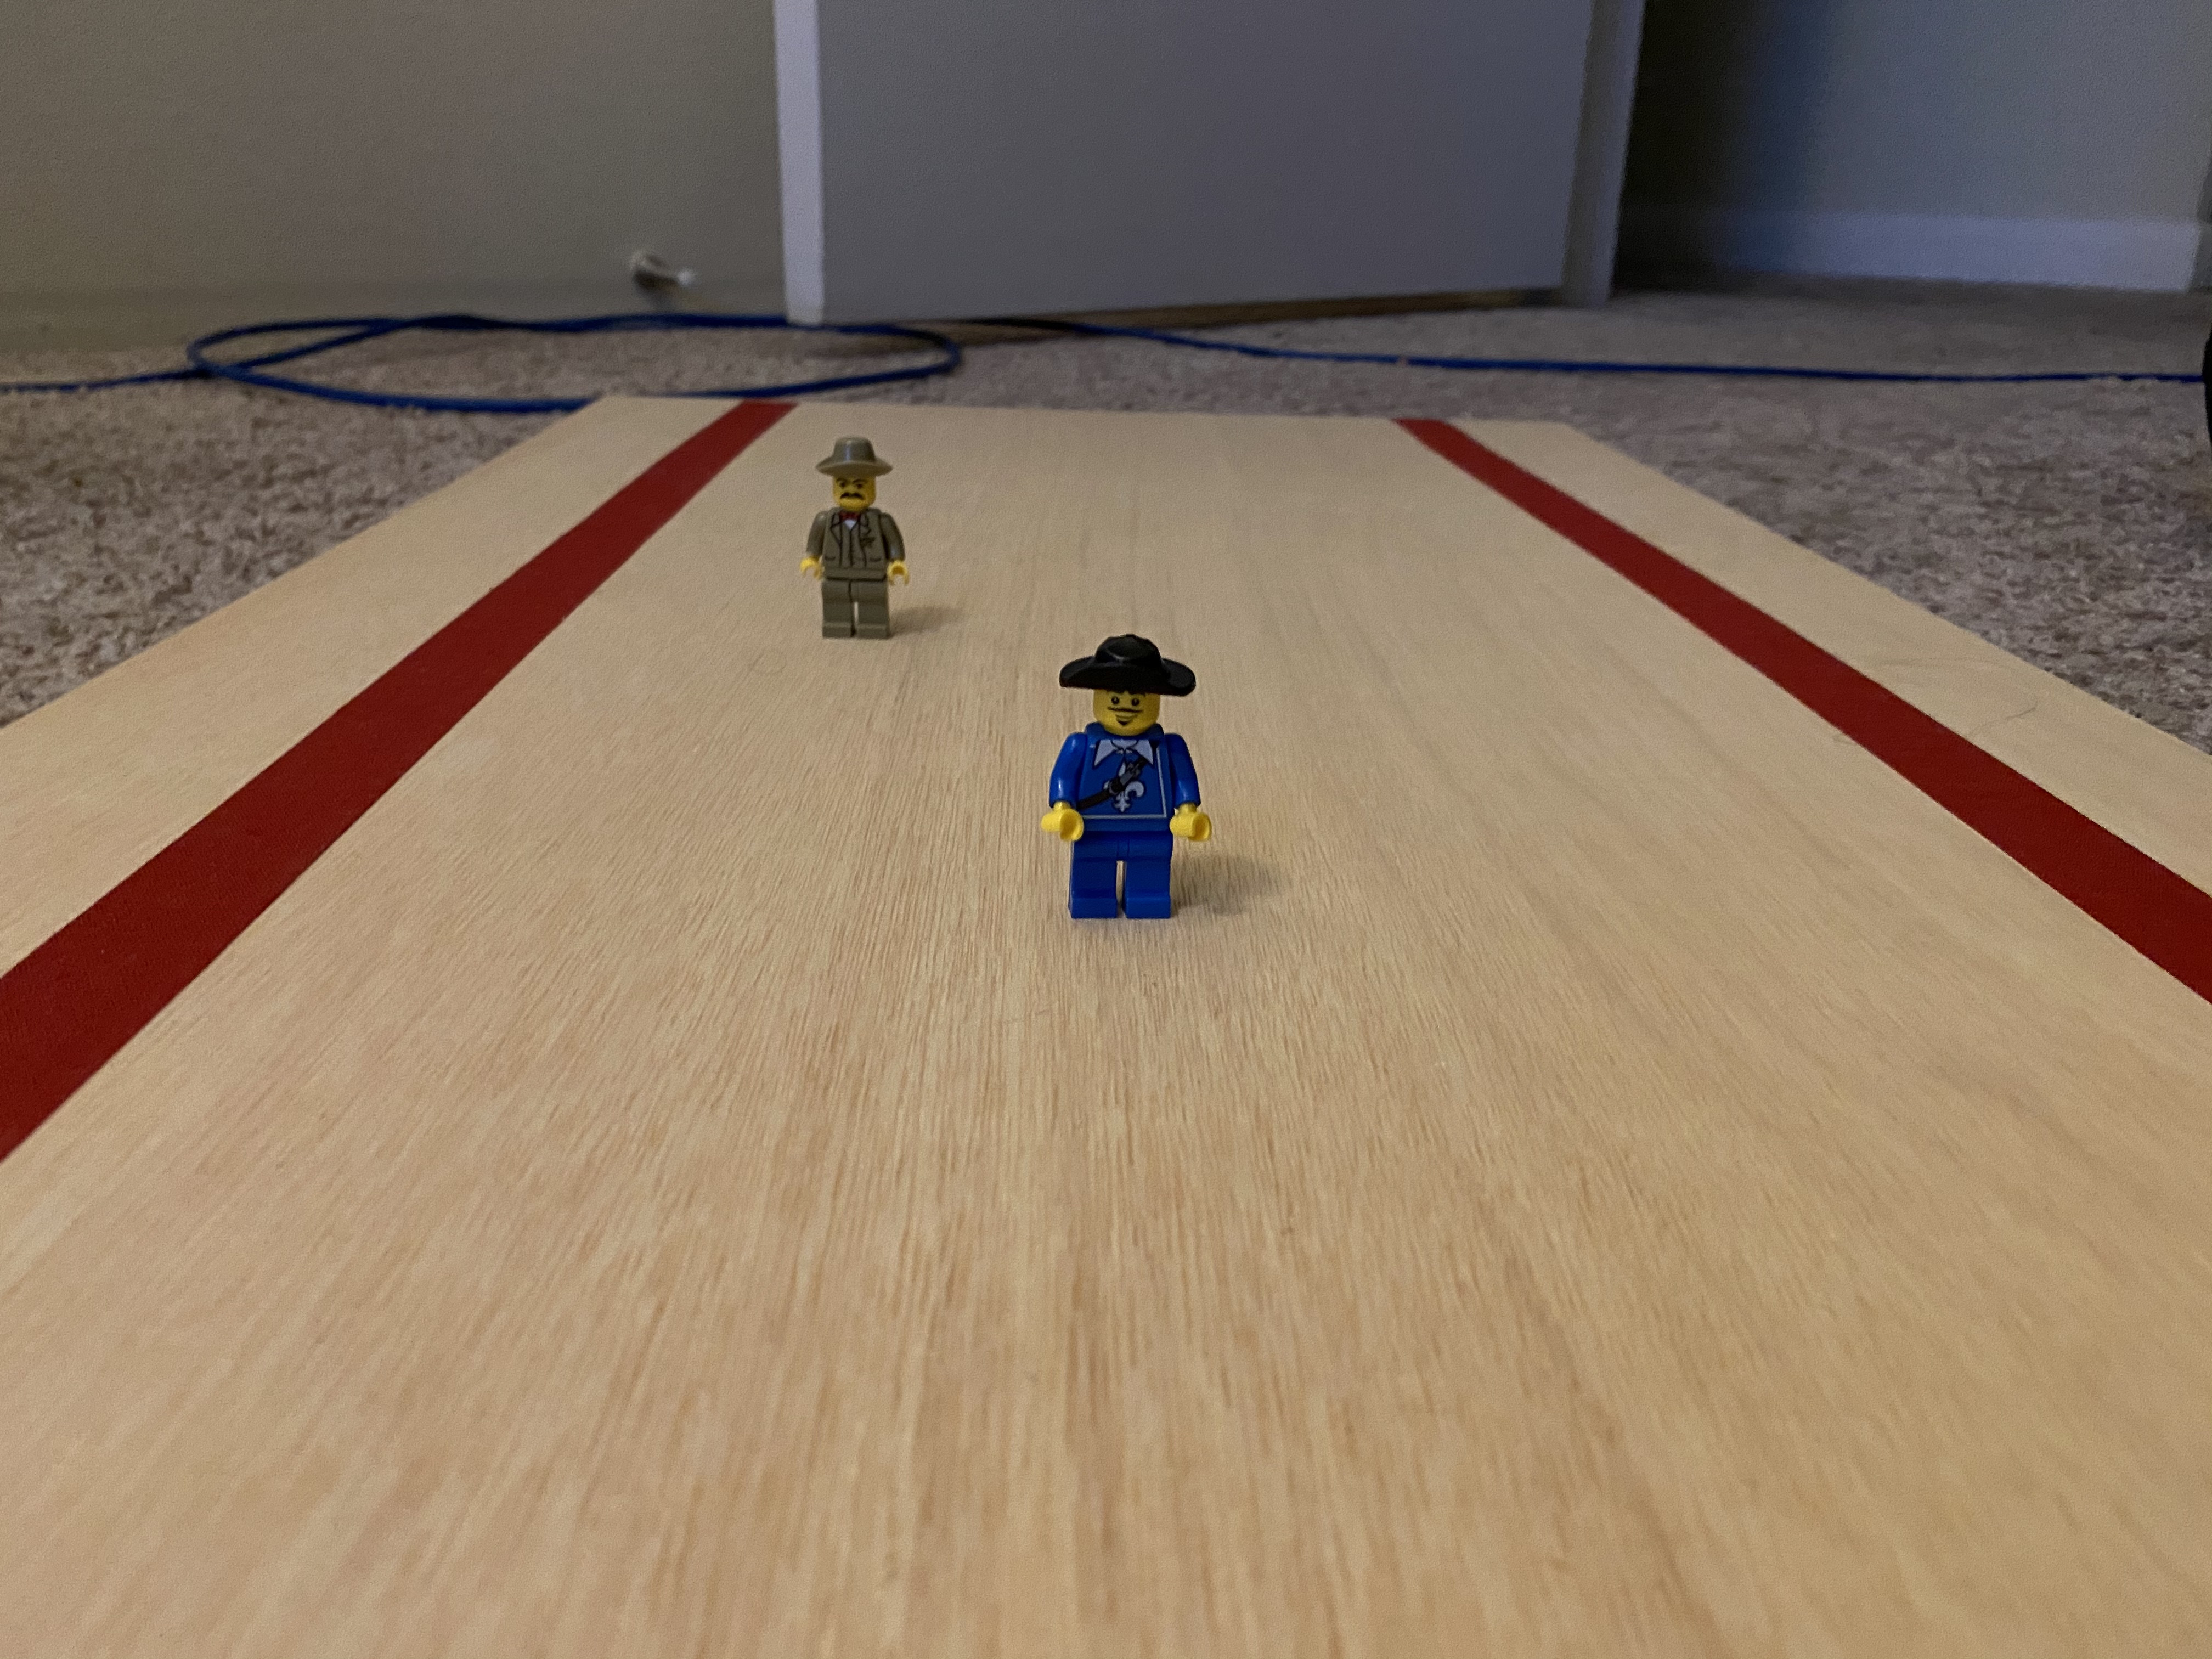Person: (1010, 619, 1248, 944), (772, 427, 932, 651)
